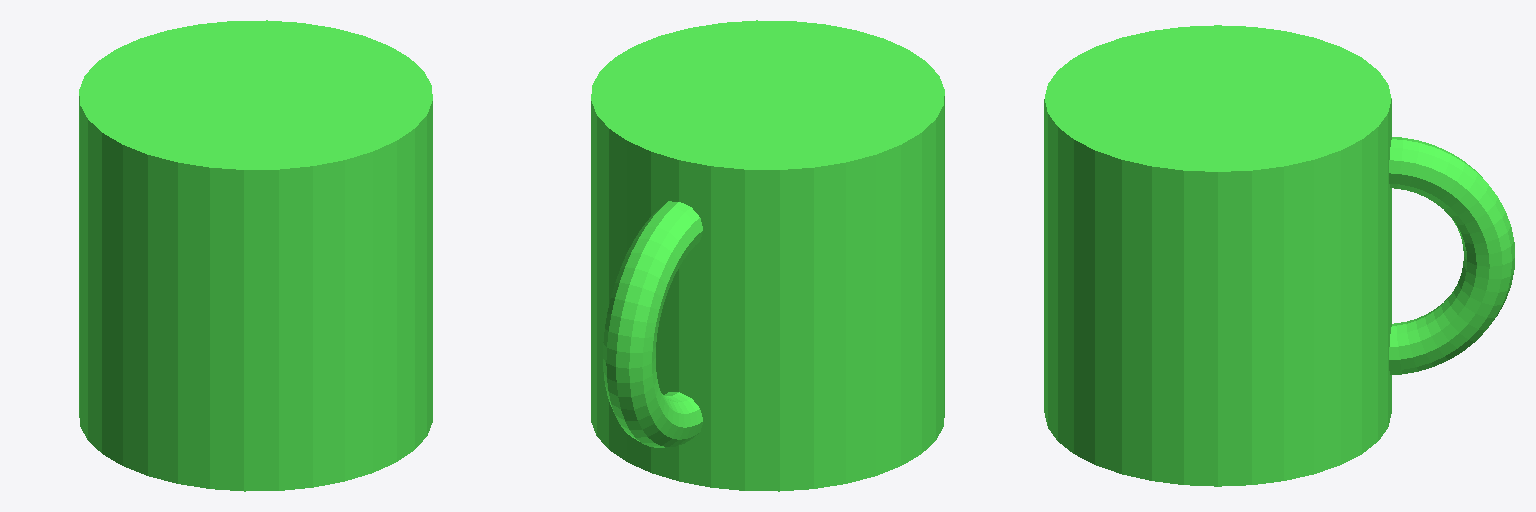
URDF robot description (mug.urdf):
<?xml version="1.0" ?>
<robot name="mug.urdf">
  <link name="baseLink">
    <inertial>
      <origin rpy="0 0 0" xyz="0 0 0"/>
       <mass value=".0"/>
       <inertia ixx="0" ixy="0" ixz="0" iyy="0" iyz="0" izz="0"/>
    </inertial>
    <visual>
      <origin rpy="0 0 0" xyz="0 0 0"/>
      <geometry>
				<mesh filename="package://meshes/mug_small_comp/unfilled_base.obj" scale="1 1 1"/>
      </geometry>
       <material name="green">
        <color rgba="0.4 1 0.4 0.5"/>
      </material>
    </visual>
    <collision>
      <origin rpy="0 0 0" xyz="0 0 0"/>
     <geometry>
				<mesh filename="package://meshes/mug_small_comp/filled_base.obj" scale="1 1 1"/>
      </geometry>
    </collision>
  </link>
    <link name="link1">
        <inertial>
          <origin rpy="0 0 0" xyz="0 0 0"/>
           <mass value=".0"/>
           <inertia ixx="0" ixy="0" ixz="0" iyy="0" iyz="0" izz="0"/>
        </inertial>
        <visual>
      <origin rpy="0 0 0" xyz="0 0 0"/>
      <geometry>
				<mesh filename="package://meshes/mug_small_comp/handle1.obj" scale="1 1 1"/>
      </geometry>
       <material name="green">
        <color rgba="0.4 1 0.4 0.5"/>
      </material>
    </visual>
    <collision>
      <origin rpy="0 0 0" xyz="0 0 0"/>
     <geometry>
				<mesh filename="package://meshes/mug_small_comp/handle1.obj" scale="1 1 1"/>
      </geometry>
    </collision>
  </link>
    <link name="link2">
        <inertial>
          <origin rpy="0 0 0" xyz="0 0 0"/>
           <mass value=".0"/>
           <inertia ixx="0" ixy="0" ixz="0" iyy="0" iyz="0" izz="0"/>
        </inertial>
        <visual>
      <origin rpy="0 0 0" xyz="0 0 0"/>
      <geometry>
				<mesh filename="package://meshes/mug_small_comp/handle2.obj" scale="1 1 1"/>
      </geometry>
       <material name="green">
        <color rgba="0.4 1 0.4 0.5"/>
      </material>
    </visual>
    <collision>
      <origin rpy="0 0 0" xyz="0 0 0"/>
     <geometry>
				<mesh filename="package://meshes/mug_small_comp/handle2.obj" scale="1 1 1"/>
      </geometry>
    </collision>
  </link>
    <link name="link3">
        <inertial>
          <origin rpy="0 0 0" xyz="0 0 0"/>
           <mass value=".0"/>
           <inertia ixx="0" ixy="0" ixz="0" iyy="0" iyz="0" izz="0"/>
        </inertial>
        <visual>
      <origin rpy="0 0 0" xyz="0 0 0"/>
      <geometry>
				<mesh filename="package://meshes/mug_small_comp/handle3.obj" scale="1 1 1"/>
      </geometry>
       <material name="green">
        <color rgba="0.4 1 0.4 0.5"/>
      </material>
    </visual>
    <collision>
      <origin rpy="0 0 0" xyz="0 0 0"/>
     <geometry>
				<mesh filename="package://meshes/mug_small_comp/handle3.obj" scale="1 1 1"/>
      </geometry>
    </collision>
  </link>
    <link name="link4">
        <inertial>
          <origin rpy="0 0 0" xyz="0 0 0"/>
           <mass value=".0"/>
           <inertia ixx="0" ixy="0" ixz="0" iyy="0" iyz="0" izz="0"/>
        </inertial>
        <visual>
      <origin rpy="0 0 0" xyz="0 0 0"/>
      <geometry>
				<mesh filename="package://meshes/mug_small_comp/handle4.obj" scale="1 1 1"/>
      </geometry>
       <material name="green">
        <color rgba="0.4 1 0.4 0.5"/>
      </material>
    </visual>
    <collision>
      <origin rpy="0 0 0" xyz="0 0 0"/>
     <geometry>
				<mesh filename="package://meshes/mug_small_comp/handle4.obj" scale="1 1 1"/>
      </geometry>
    </collision>
  </link>
    <link name="link5">
        <inertial>
          <origin rpy="0 0 0" xyz="0 0 0"/>
           <mass value=".0"/>
           <inertia ixx="0" ixy="0" ixz="0" iyy="0" iyz="0" izz="0"/>
        </inertial>
        <visual>
      <origin rpy="0 0 0" xyz="0 0 0"/>
      <geometry>
				<mesh filename="package://meshes/mug_small_comp/handle5.obj" scale="1 1 1"/>
      </geometry>
       <material name="green">
        <color rgba="0.4 1 0.4 0.5"/>
      </material>
    </visual>
    <collision>
      <origin rpy="0 0 0" xyz="0 0 0"/>
     <geometry>
				<mesh filename="package://meshes/mug_small_comp/handle5.obj" scale="1 1 1"/>
      </geometry>
    </collision>
  </link>
    <link name="link6">
        <inertial>
          <origin rpy="0 0 0" xyz="0 0 0"/>
           <mass value=".0"/>
           <inertia ixx="0" ixy="0" ixz="0" iyy="0" iyz="0" izz="0"/>
        </inertial>
        <visual>
      <origin rpy="0 0 0" xyz="0 0 0"/>
      <geometry>
				<mesh filename="package://meshes/mug_small_comp/handle6.obj" scale="1 1 1"/>
      </geometry>
       <material name="green">
        <color rgba="0.4 1 0.4 0.5"/>
      </material>
    </visual>
    <collision>
      <origin rpy="0 0 0" xyz="0 0 0"/>
     <geometry>
				<mesh filename="package://meshes/mug_small_comp/handle6.obj" scale="1 1 1"/>
      </geometry>
    </collision>
  </link>
    <link name="link7">
        <inertial>
          <origin rpy="0 0 0" xyz="0 0 0"/>
           <mass value=".0"/>
           <inertia ixx="0" ixy="0" ixz="0" iyy="0" iyz="0" izz="0"/>
        </inertial>
        <visual>
      <origin rpy="0 0 0" xyz="0 0 0"/>
      <geometry>
				<mesh filename="package://meshes/mug_small_comp/handle7.obj" scale="1 1 1"/>
      </geometry>
       <material name="green">
        <color rgba="0.4 1 0.4 0.5"/>
      </material>
    </visual>
    <collision>
      <origin rpy="0 0 0" xyz="0 0 0"/>
     <geometry>
				<mesh filename="package://meshes/mug_small_comp/handle7.obj" scale="1 1 1"/>
      </geometry>
    </collision>
  </link>
    <joint name="joint1" type="fixed">
        <origin rpy="0 0 0" xyz="0 0 0"/>
        <parent link="baseLink"/>
        <child link="link1"/>
    </joint>
    <joint name="joint2" type="fixed">
        <origin rpy="0 0 0" xyz="0 0 0"/>
        <parent link="baseLink"/>
        <child link="link2"/>
    </joint>
    <joint name="joint3" type="fixed">
        <origin rpy="0 0 0" xyz="0 0 0"/>
        <parent link="baseLink"/>
        <child link="link3"/>
    </joint>
    <joint name="joint4" type="fixed">
        <origin rpy="0 0 0" xyz="0 0 0"/>
        <parent link="baseLink"/>
        <child link="link4"/>
    </joint>
    <joint name="joint5" type="fixed">
        <origin rpy="0 0 0" xyz="0 0 0"/>
        <parent link="baseLink"/>
        <child link="link5"/>
    </joint>
    <joint name="joint6" type="fixed">
        <origin rpy="0 0 0" xyz="0 0 0"/>
        <parent link="baseLink"/>
        <child link="link6"/>
    </joint>
    <joint name="joint7" type="fixed">
        <origin rpy="0 0 0" xyz="0 0 0"/>
        <parent link="baseLink"/>
        <child link="link7"/>
    </joint>
</robot>

--- Facts derived from the render (not from the file) ---
The picture shows the robot from 3 angles, left to right: view 1: azimuth 30°, elevation 25°; view 2: azimuth 150°, elevation 25°; view 3: azimuth 270°, elevation 25°; orthographic projection.
Robot: mug.urdf — 8 links, 7 joints (7 fixed); root link baseLink; default pose: all joints at 0.
Links seen in each view (by area): view 1: baseLink; view 2: baseLink, link3, link7, link2, link6, link1, link5, link4; view 3: baseLink, link3, link7, link6, link2, link1, link5, link4.
Link boxes in pixels (box(x1,y1,x2,y2)): baseLink: box(79, 20, 432, 491); baseLink: box(591, 20, 944, 491); link3: box(605, 267, 668, 337); link7: box(603, 329, 656, 396); link2: box(620, 227, 684, 287); link6: box(605, 379, 668, 437); link1: box(640, 201, 702, 258); link5: box(626, 396, 684, 447); link4: box(664, 392, 702, 446); baseLink: box(1044, 25, 1391, 486); link3: box(1444, 171, 1510, 243); link7: box(1461, 227, 1514, 292); link6: box(1441, 275, 1510, 341); link2: box(1417, 146, 1477, 208); link1: box(1389, 137, 1435, 192); link5: box(1416, 303, 1474, 366); link4: box(1389, 319, 1433, 374).
Size in the robot's own frame: 0.182 by 0.2469 by 0.182 metres.
8 mesh visuals loaded from 8 distinct referenced files (8 OBJ).